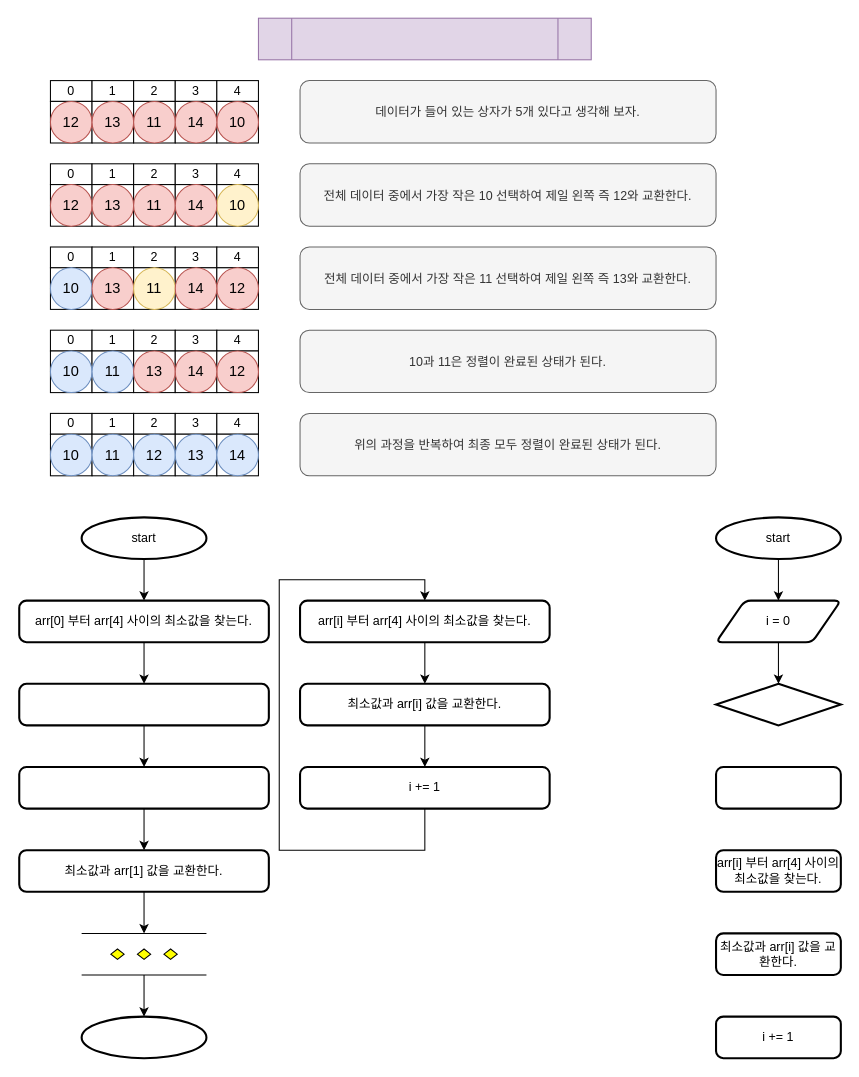
Some shapes in this 859 by 1077 pixel diagram are drawn without their labels. Here are the shapes that lost their labels. From the top down, the centre of each, then its label:
At point (424, 38): "선형 탐색 알고리즘".
At point (143, 704): "최소값과 arr[0] 값을 교환한다.".
At point (777, 704): "i < 4".
At point (143, 787): "arr[1] 부터 arr[4] 사이의 최소값을 찾는다.".
At point (143, 1037): "end".
